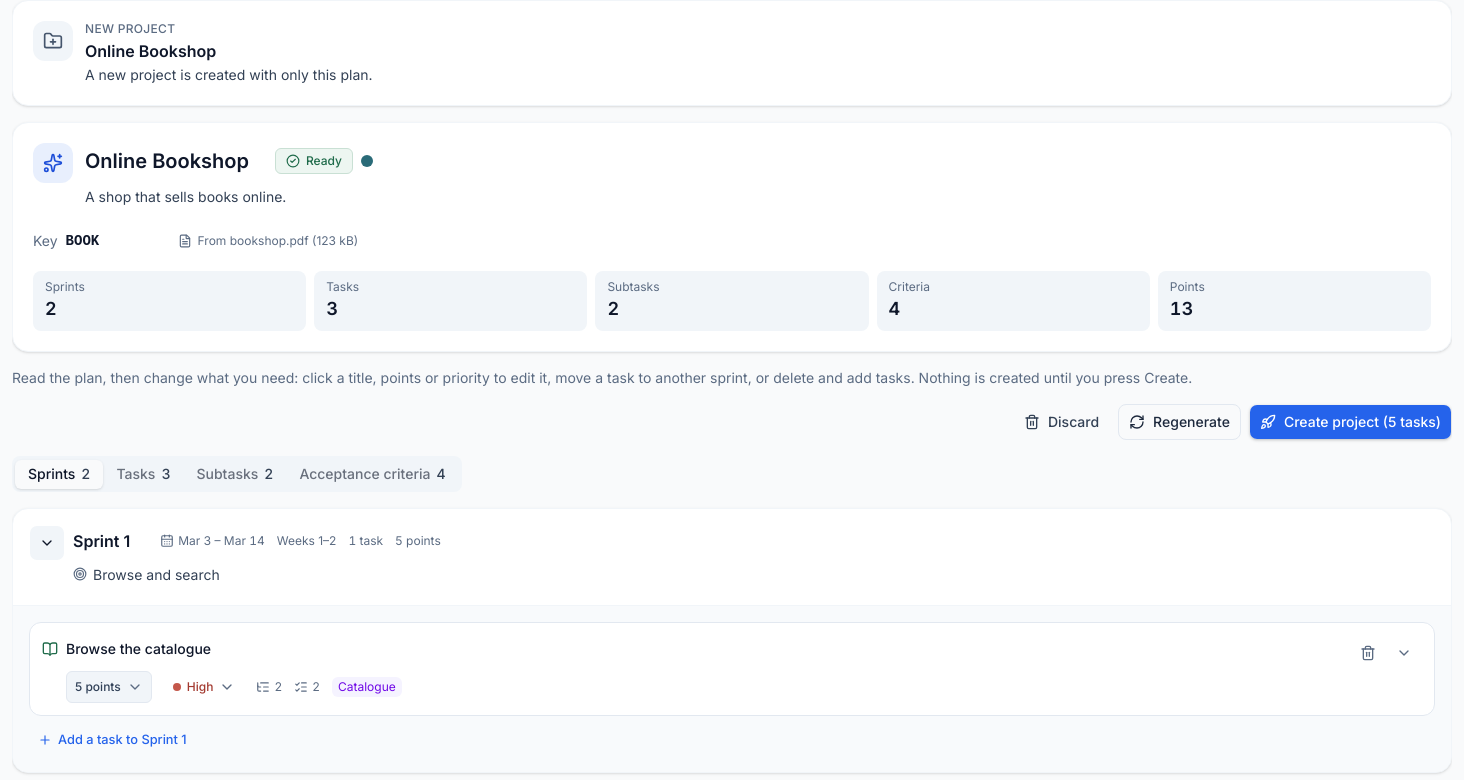
Scenario: ReviewStep › AC-005: lists subtasks and acceptance criteria by task, and warns about tasks without criteria
This screenshot has width=1464, height=780.
Click the tab "Subtasks 2" at {"x": 235, "y": 474}, box [184, 460, 286, 488]
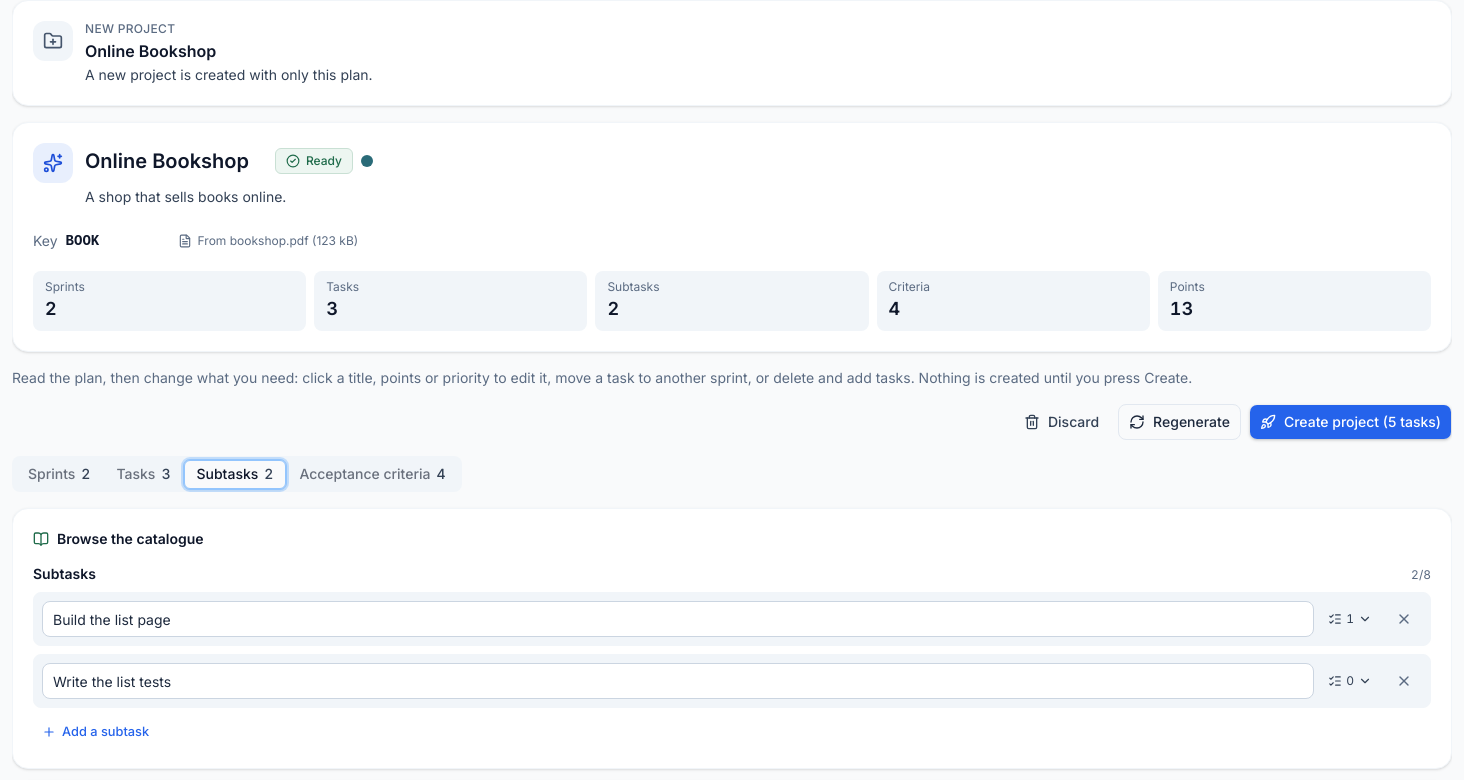
Check: the field showing "Build the list page" is shown, box [42, 601, 1314, 637]
Check: the field showing "Write the list tests" is shown, box [42, 663, 1314, 699]
Click the tab "Acceptance criteria 4" at {"x": 372, "y": 474}, box [286, 460, 459, 488]
(page scrolled)
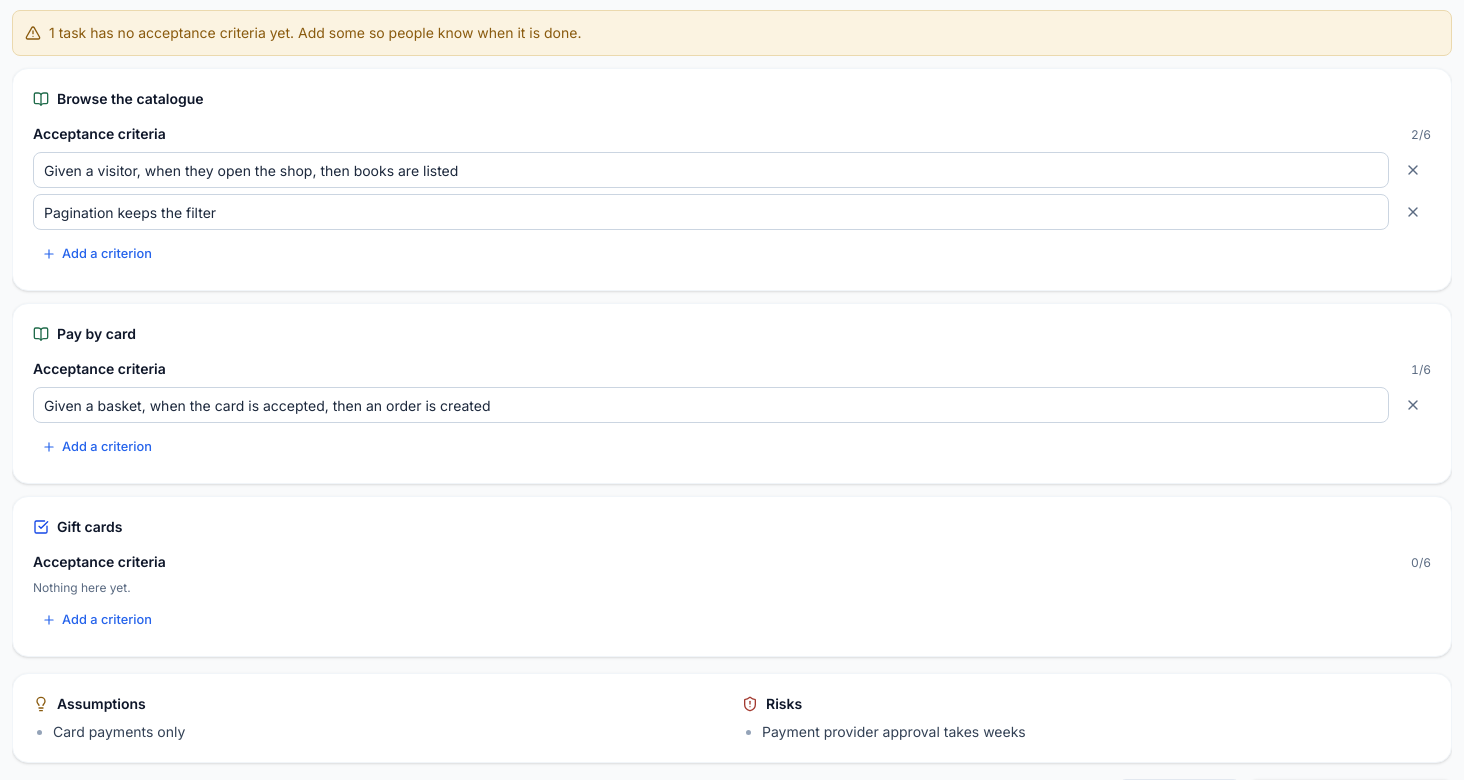
Check: the message shows "1 task has no acceptance criteria yet", box [49, 24, 582, 41]
Check: the field showing "Given a basket, when the card is accepted, then an order is created" is shown, box [33, 387, 1389, 423]
